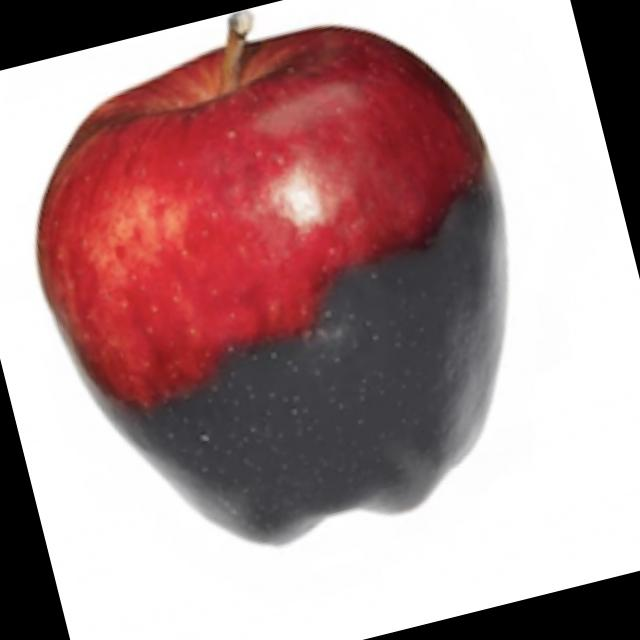rotten_apple: (0, 0, 570, 586)
